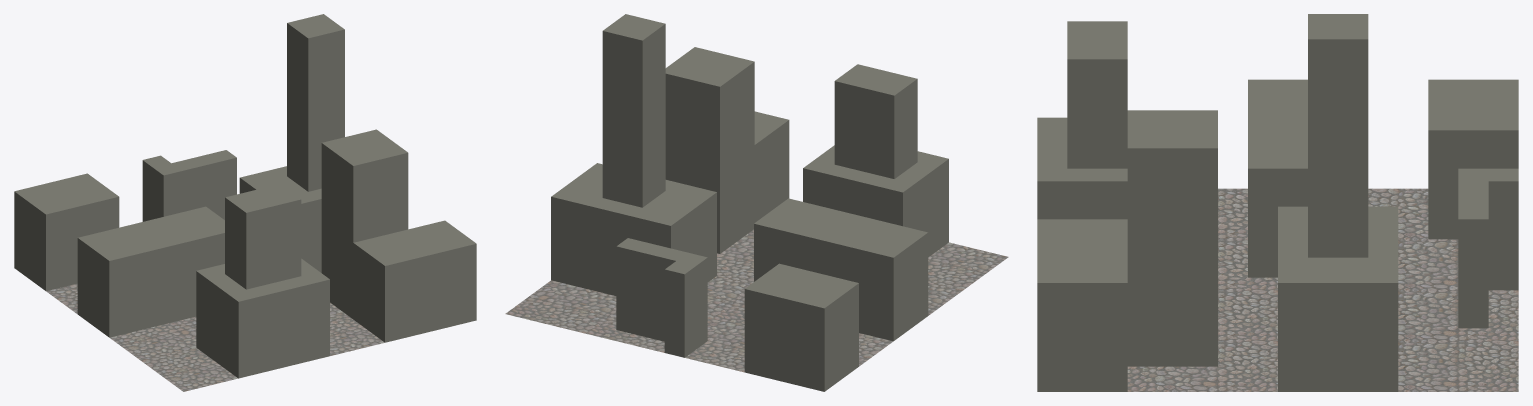
Rendered from tile1.fbx.
3 views of the same model, side by side, from view 1: azimuth 30°, elevation 25°; view 2: azimuth 150°, elevation 25°; view 3: azimuth 270°, elevation 25° (orthographic). The views are drawn at different scales.
Visible parts, largest first — view 1: Tile 2; view 2: Tile 2; view 3: Tile 2.
Part boxes in pixels (bbox=[...]): Tile 2: bbox=[14, 14, 476, 391]; Tile 2: bbox=[505, 14, 1008, 391]; Tile 2: bbox=[1037, 14, 1518, 391].
Size of the model in its own units: 1600 by 1200 by 1600.
